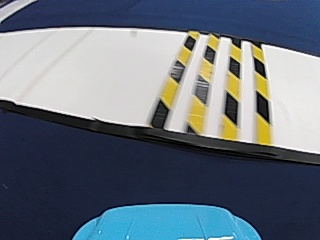bump: (147, 36, 275, 133)
